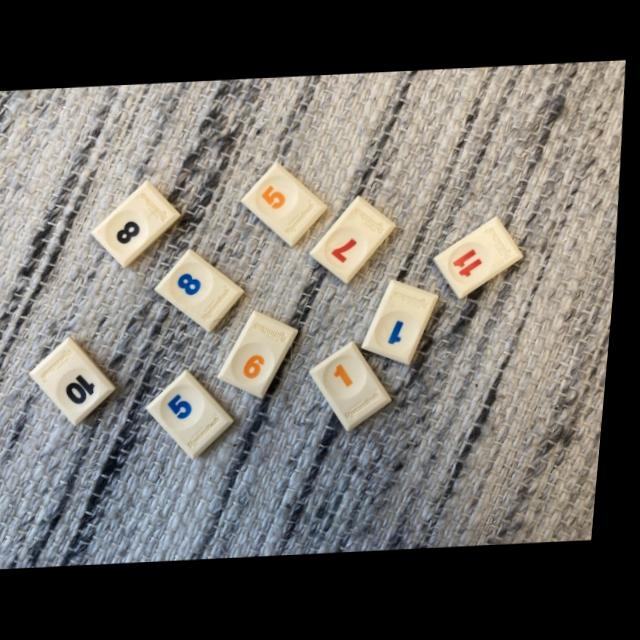black_10: (37, 338, 121, 425)
black_8: (96, 181, 184, 267)
blue_1: (368, 280, 443, 366)
blue_5: (154, 371, 240, 459)
blue_8: (160, 249, 248, 331)
orange_1: (316, 342, 398, 432)
orange_5: (244, 163, 330, 247)
orange_9: (226, 312, 303, 399)
red_11: (439, 218, 527, 300)
red_7: (315, 197, 400, 284)
